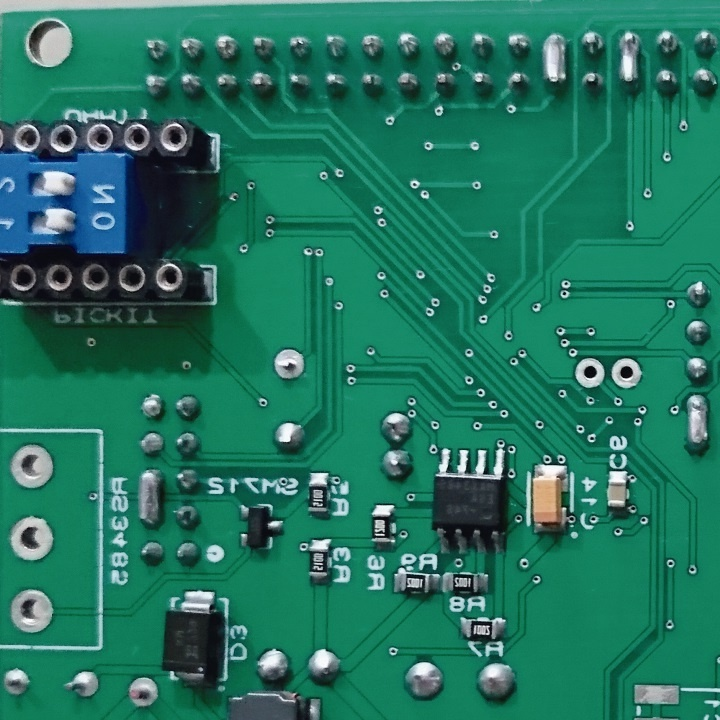F: (7, 512, 60, 565), (6, 443, 59, 490), (7, 586, 56, 636), (125, 672, 164, 712), (270, 343, 307, 384), (571, 353, 607, 393), (609, 353, 645, 392), (64, 666, 103, 700), (1, 664, 36, 699)
P: (683, 392, 716, 462), (613, 26, 646, 95), (539, 29, 569, 96), (134, 465, 164, 529)
